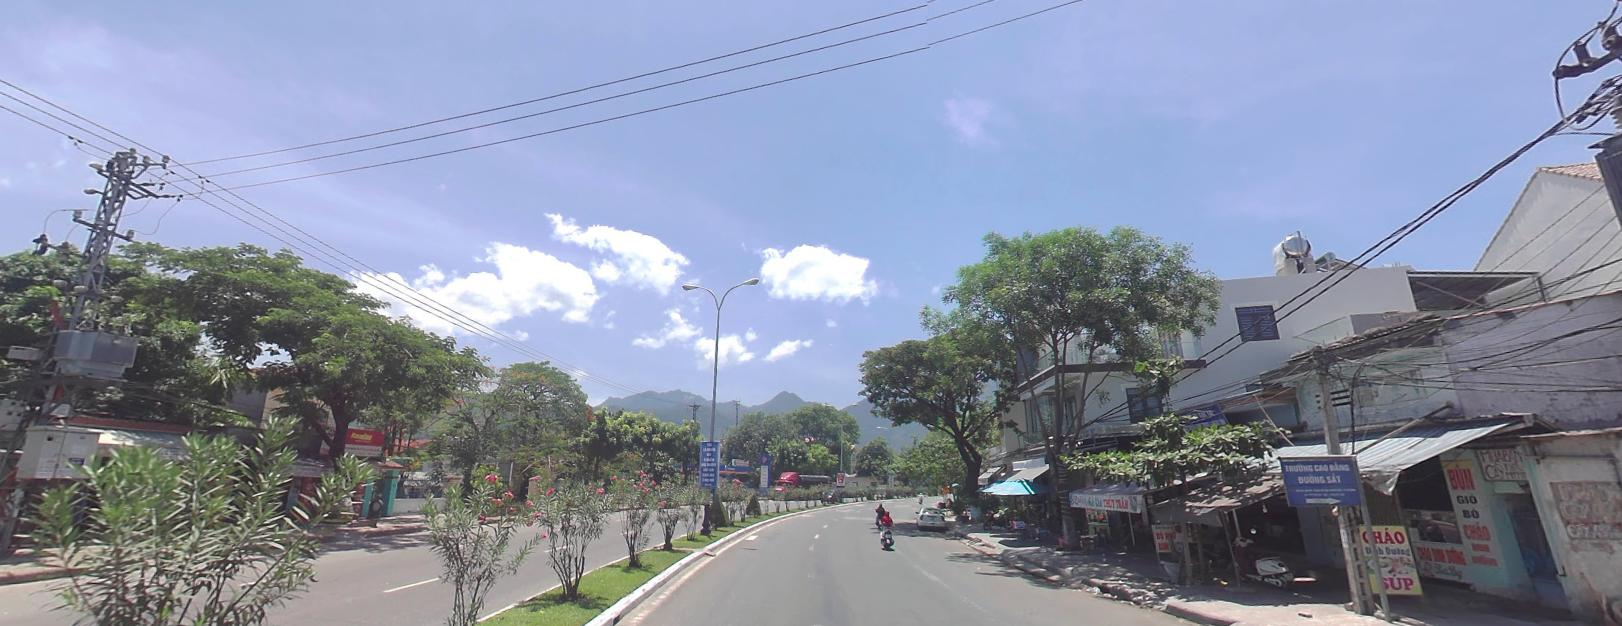Nguy hiem: (941, 484, 950, 493)
